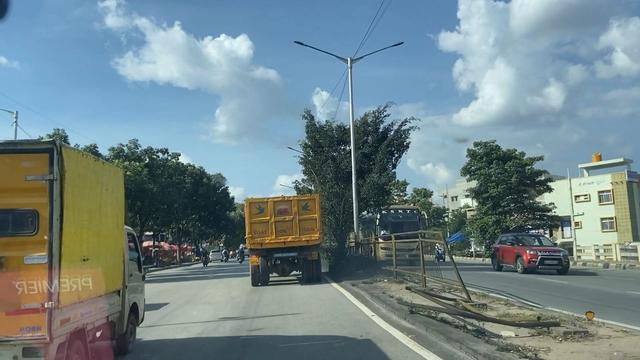HMV: (9, 140, 149, 360), (244, 193, 322, 289)
